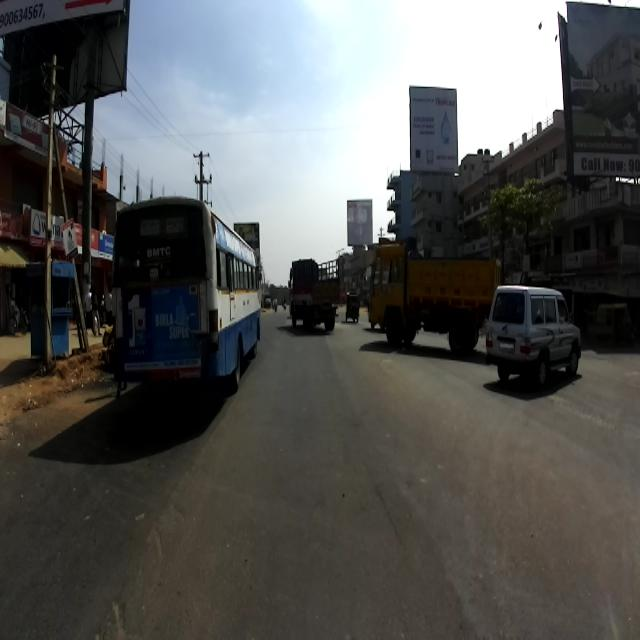bus ahead at: (111, 187, 263, 408)
car ahead at: (482, 274, 584, 394)
truck ahead at: (360, 240, 507, 362)
